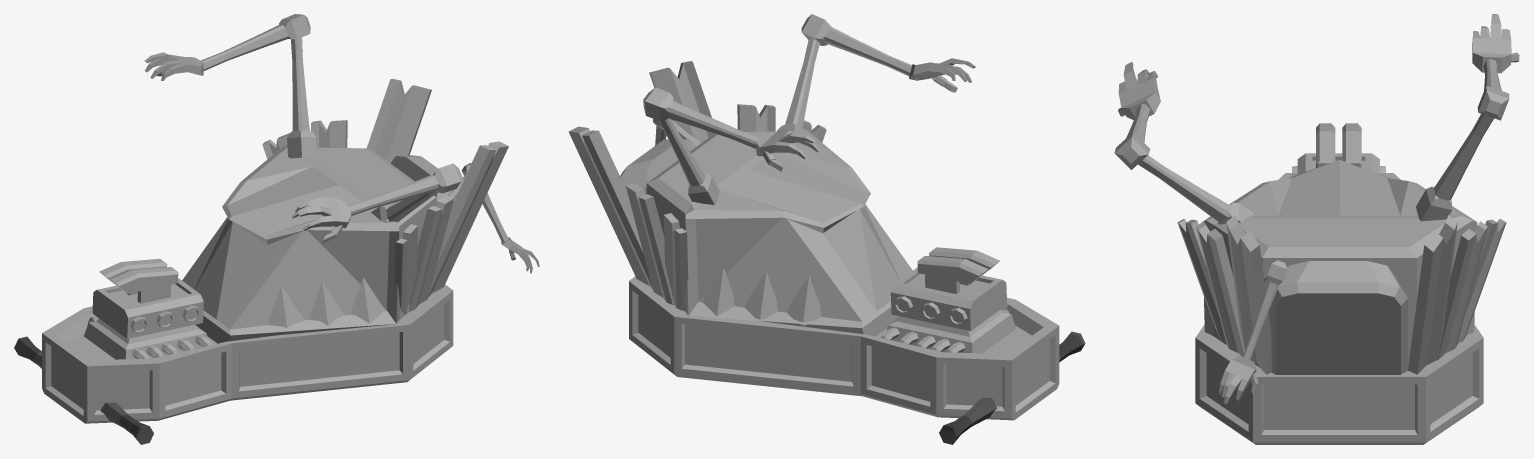
File: Vehicle_005_Hotrod_003_Spooky.fbx
The picture shows the model from 3 angles, left to right: view 1: azimuth 30°, elevation 25°; view 2: azimuth 150°, elevation 25°; view 3: azimuth 270°, elevation 25°; orthographic projection. The views are drawn at different scales.
Parts seen in each view (by area): view 1: Vehicle_005_Hotrod_003_Spooky; view 2: Vehicle_005_Hotrod_003_Spooky; view 3: Vehicle_005_Hotrod_003_Spooky.
Boxes of the visible parts, x1,y1,x2,y2 form: Vehicle_005_Hotrod_003_Spooky: (14, 14, 539, 444); Vehicle_005_Hotrod_003_Spooky: (568, 14, 1085, 444); Vehicle_005_Hotrod_003_Spooky: (1114, 14, 1519, 444).
Size of the model in its own units: 300 by 185 by 208.
